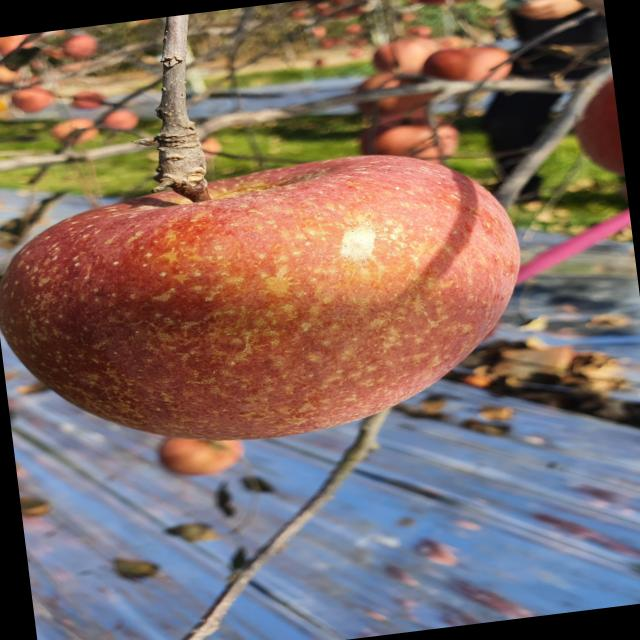fresh: (1, 120, 549, 475)
